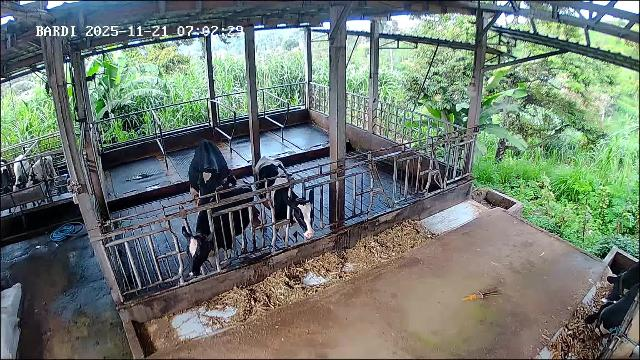mounting: (186, 142, 237, 211)
